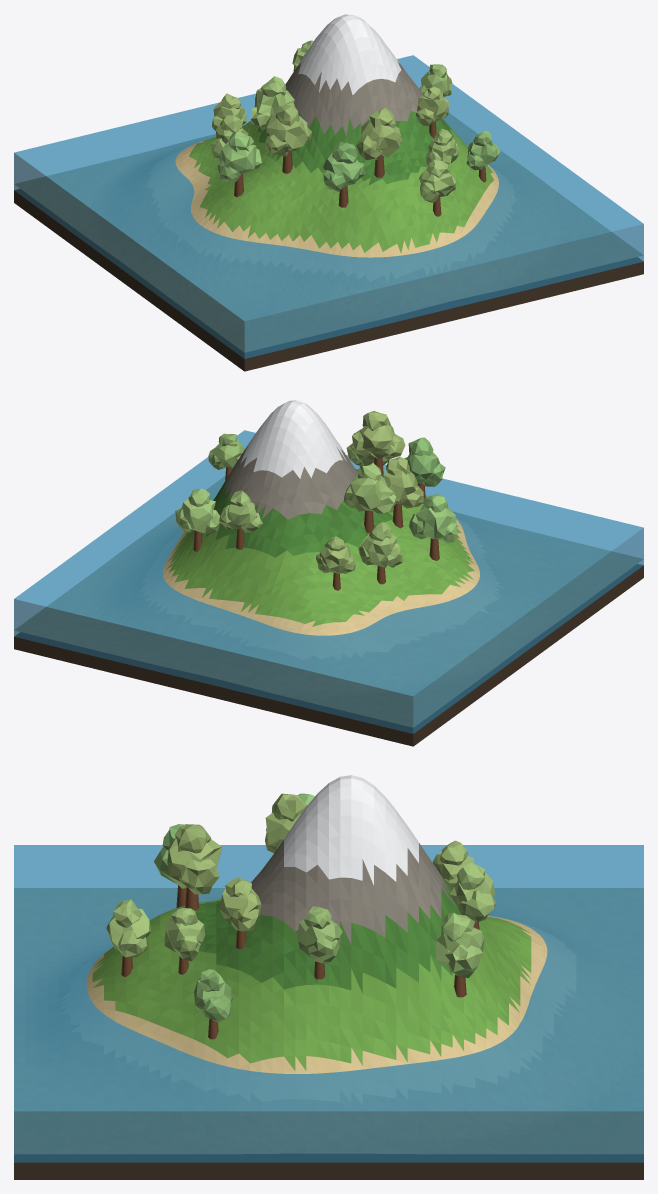
Rendered from island.glb.
3 renders of one model, top to bottom at view 1: azimuth 30°, elevation 25°; view 2: azimuth 150°, elevation 25°; view 3: azimuth 270°, elevation 25°, orthographic. The views are drawn at different scales.
Parts seen in each view (by area): view 1: Island, Tree (×12); view 2: Island, Tree (×10); view 3: Island, Tree (×11).
Part boxes in pixels (box(x1,y1,x2,y2)): Island: box(14, 14, 643, 371); Tree (×12): box(211, 64, 500, 216); Island: box(14, 400, 643, 746); Tree (×10): box(175, 411, 457, 590); Island: box(14, 775, 643, 1179); Tree (×11): box(106, 793, 495, 1039).
Size of the model in its own units: 4 by 2.01 by 4.
